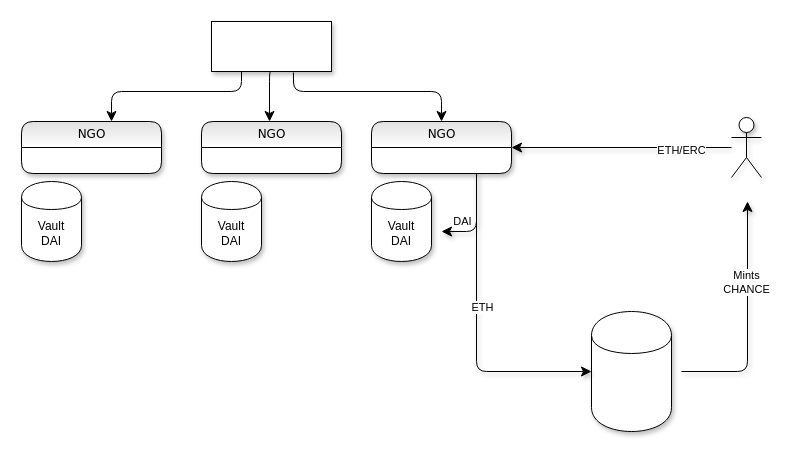
The diagram is 786 pixels wide and 456 high, and some of its shapes have lost their labels. Each missing label, with the centre of its shape:
Community Vault: the point at 632,372
Donor: the point at 747,148
Registry: the point at 272,47
